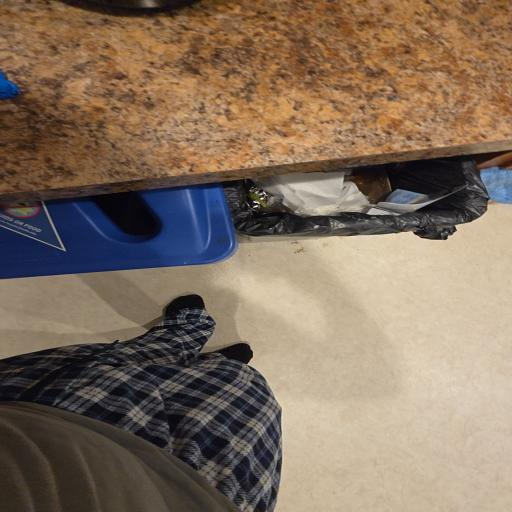Blue: (0, 72, 20, 99)
